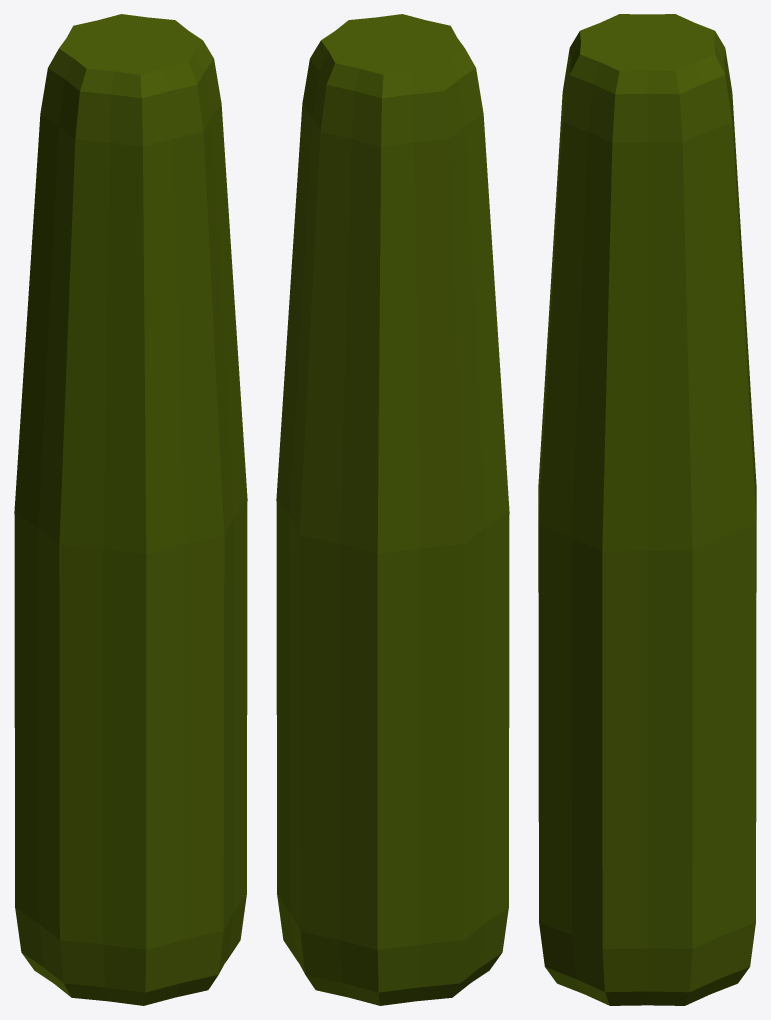
Rendered from Cactus_03_A.fbx.
3 views of the same model, side by side, from view 1: azimuth 30°, elevation 25°; view 2: azimuth 150°, elevation 25°; view 3: azimuth 270°, elevation 25° (orthographic).
Visible parts, largest first — view 1: Cactus_03_A; view 2: Cactus_03_A; view 3: Cactus_03_A.
Boxes of the visible parts, left/top/right/bottom form: Cactus_03_A: left=14, top=14, right=247, bottom=1005; Cactus_03_A: left=276, top=14, right=509, bottom=1005; Cactus_03_A: left=538, top=14, right=756, bottom=1005.
Bounding box in the file's own units: 35.46 × 166 × 35.46.
